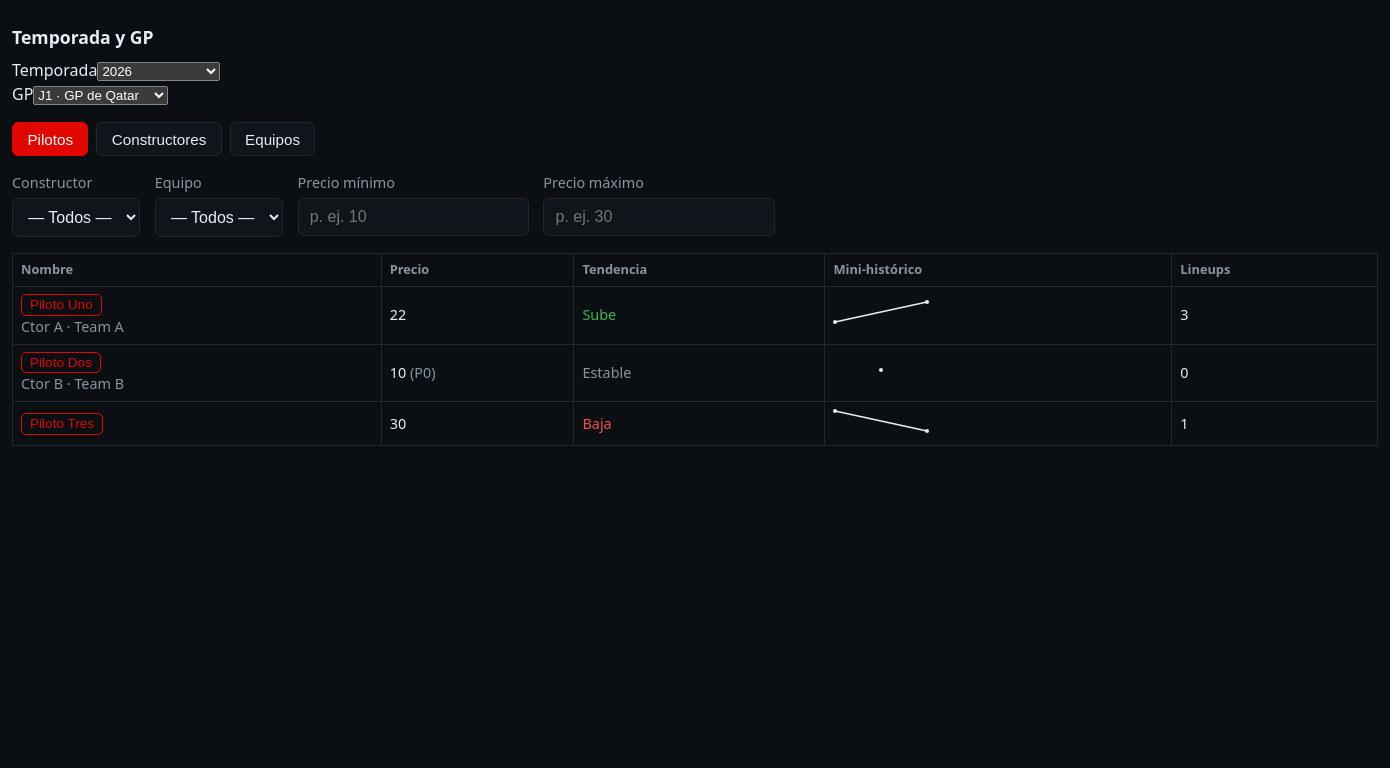
Test: MercadoPage (US-14) › muestra el detalle del activo: precio, popularidad, gráfico e histórico
Click the button "Piloto Uno": (61, 305) [21,294,102,316]
(page scrolled)
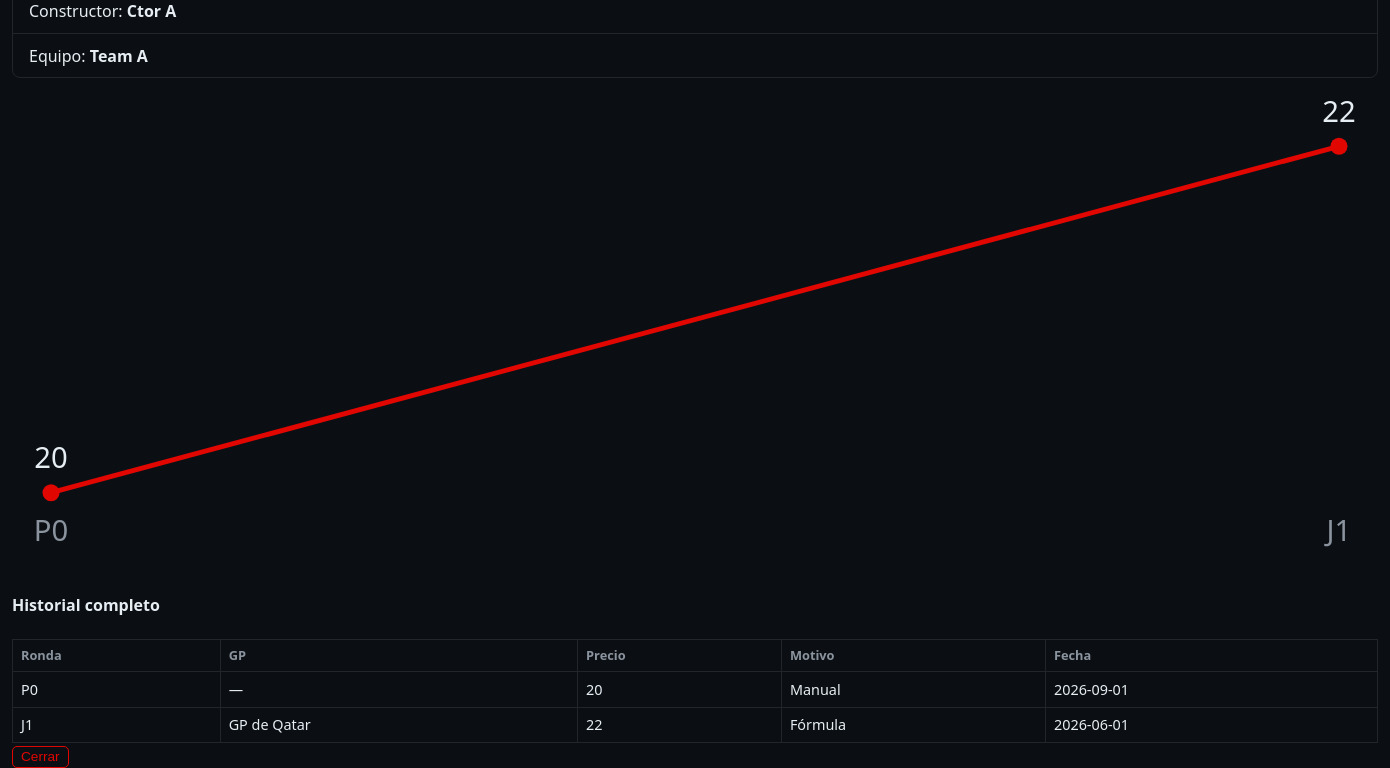
expect the list item "Constructor:" is shown: met, box [29,0,127,22]
expect the text "Ctor A" is shown: met, box [127,0,176,22]
expect the list item "Equipo:" is shown: met, box [29,44,90,66]
